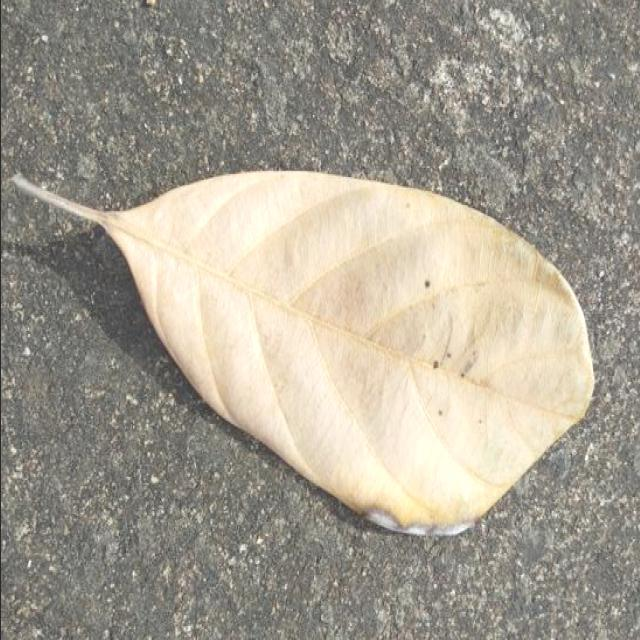leaf: (11, 167, 595, 538)
